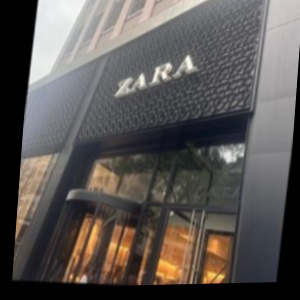zara: (114, 22, 293, 117)
